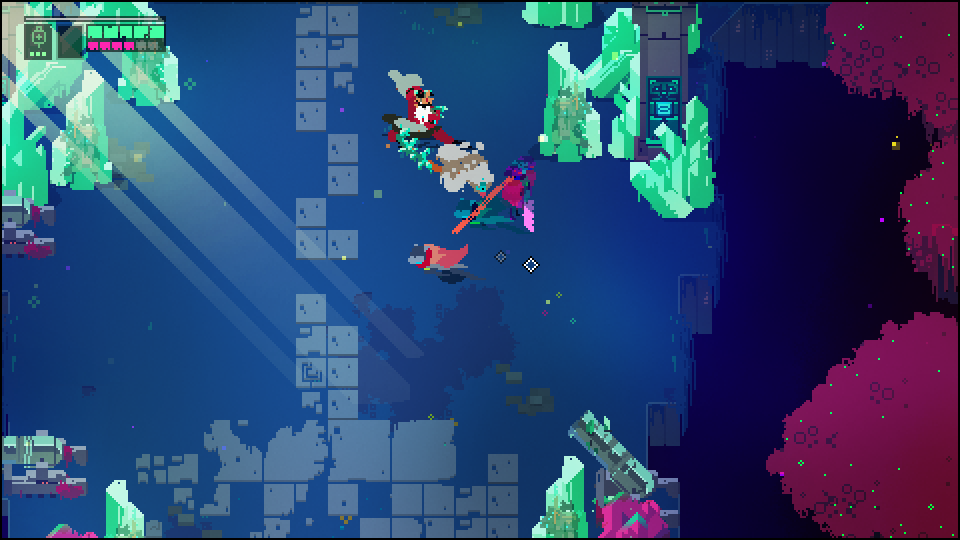hanged_man: (376, 67, 466, 175)
player: (403, 238, 474, 278)
